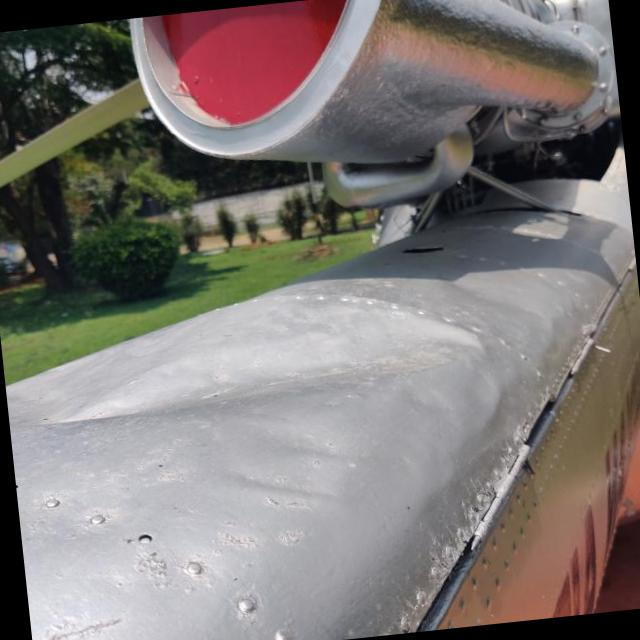Dent: (27, 279, 494, 425), (207, 396, 379, 542)
